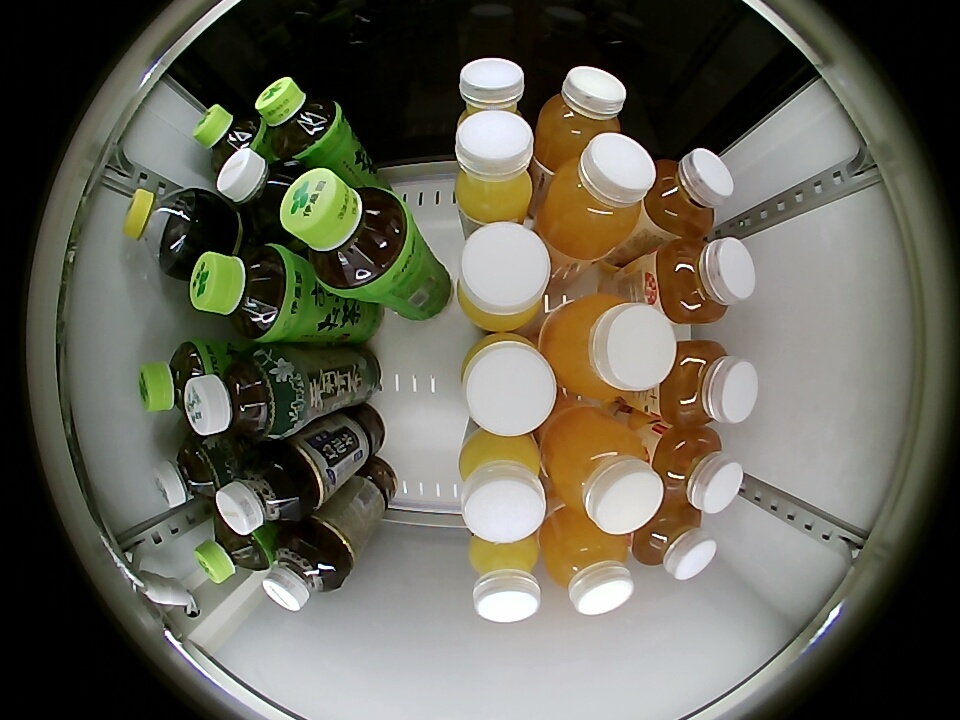baishikele: (122, 186, 204, 274)
chapai: (651, 341, 758, 428), (653, 238, 756, 324), (642, 148, 733, 238), (649, 427, 743, 513), (630, 501, 716, 580)
moliqingcha: (184, 345, 296, 440), (153, 436, 230, 506)
nfc: (456, 222, 552, 331), (457, 432, 548, 545), (461, 333, 558, 436), (452, 109, 536, 224), (468, 529, 543, 623), (458, 58, 528, 121)
weic: (542, 411, 664, 535), (540, 294, 676, 403), (539, 134, 656, 259), (540, 509, 635, 615), (534, 67, 628, 170)
wulongcha: (216, 148, 306, 238), (215, 449, 305, 535), (262, 532, 346, 611)
yitengyuan: (280, 169, 411, 292), (190, 244, 297, 342), (256, 76, 345, 163), (139, 341, 218, 415), (194, 514, 271, 584), (193, 103, 266, 174)
